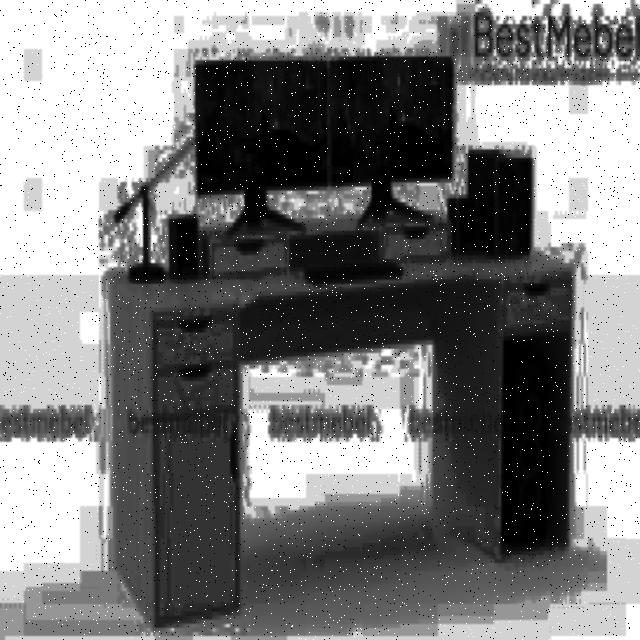table: (110, 247, 572, 624)
